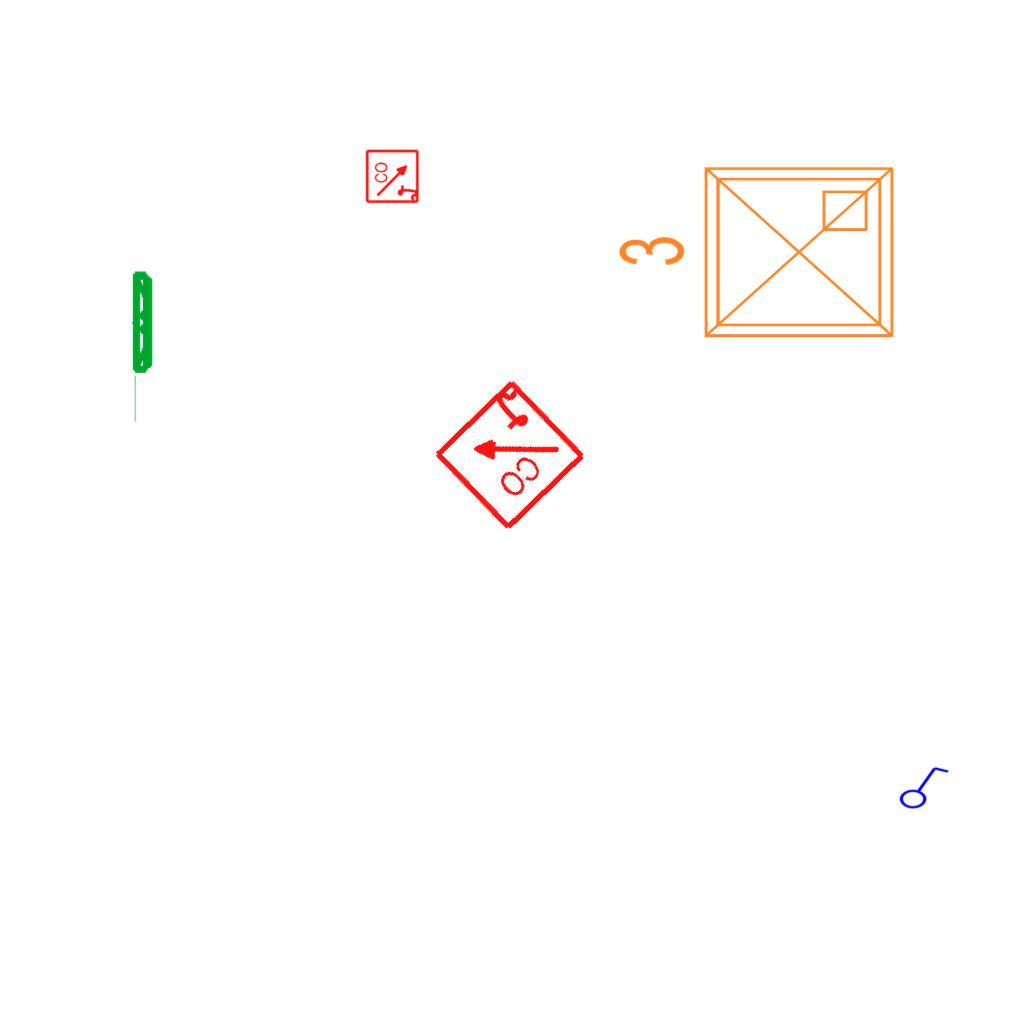Ausschalter: (894, 762, 950, 810)
Einbaudownlights_LED_Konferenzraeume: (608, 152, 908, 360)
ROA_Rauchmelder_optisch_mit_Signalgeber_(Sockelsirene): (428, 374, 589, 535), (365, 148, 421, 204)
Sicherheitsleuchte_Wandeinbau: (131, 268, 156, 427)
